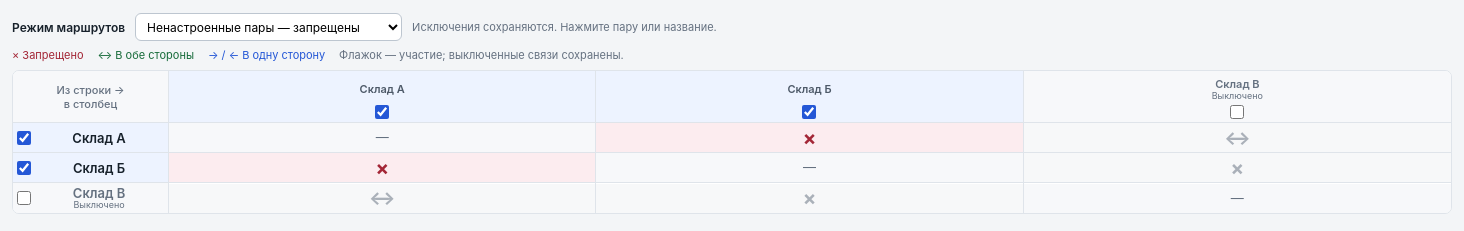
it: route matrix › keeps inactive branches visible and synchronizes participation on both axes without losing directions
Expected: the checkbox named "Участие Склад В" in the row of "в столбец" is not checked, [1230,105,1244,119]
Click the 2nd checkbox named "Участие Склад В" at [24, 198], box [17,191,31,205]
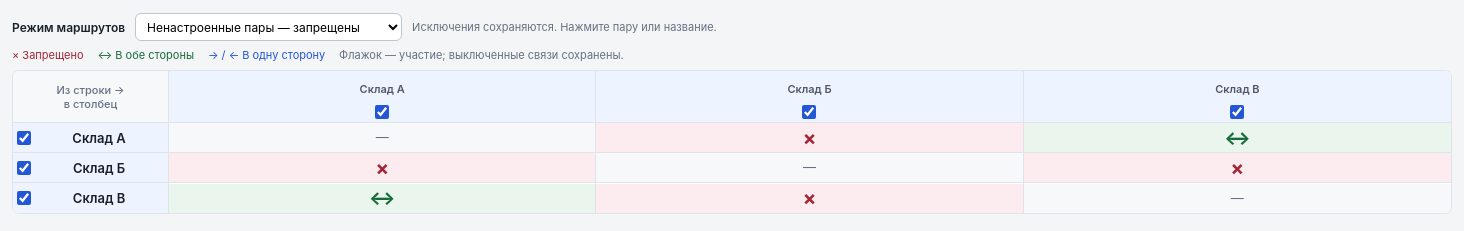
Expected: the 2nd checkbox named "Участие Склад В" is checked, [17,191,31,205]
Expected: the checkbox named "Участие Склад В" in the row of "в столбец" is checked, [1230,105,1244,119]
Click the checkbox named "Участие Склад А" below "Из строки →" at [382, 112], box [375,105,389,119]
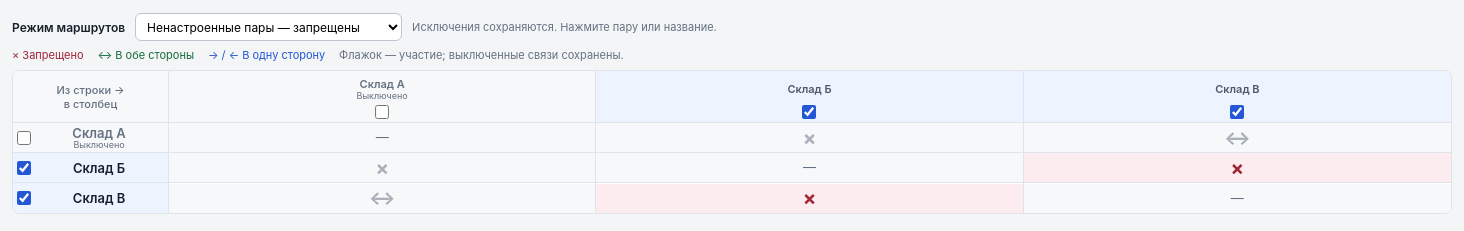
Expected: the button with aria-label "Настроить направления Склад А, строка" is disabled, [34,123,164,152]
